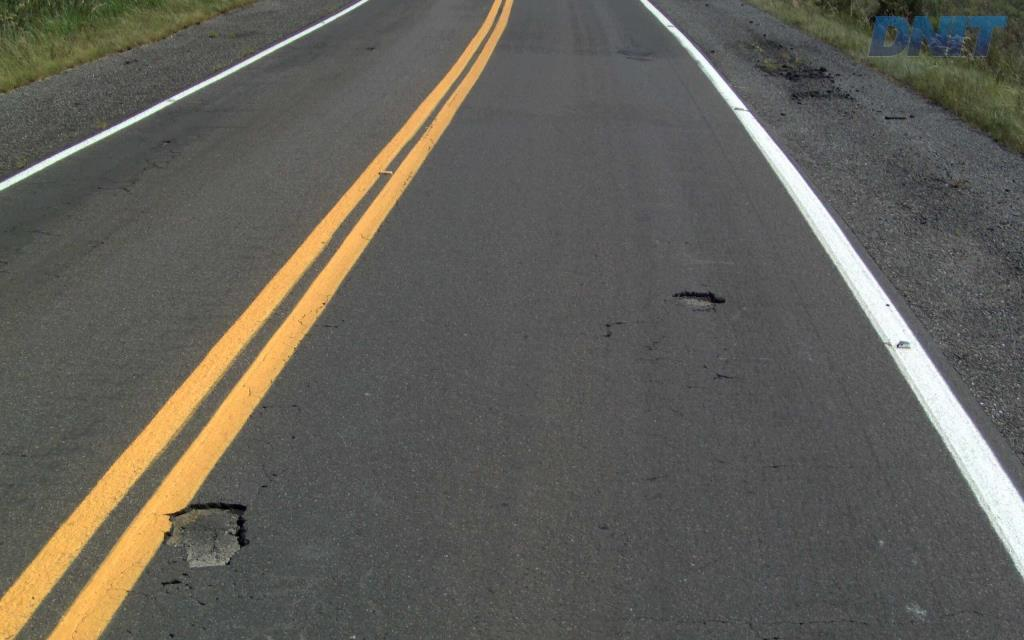pothole: (159, 493, 248, 571), (666, 283, 735, 310)
